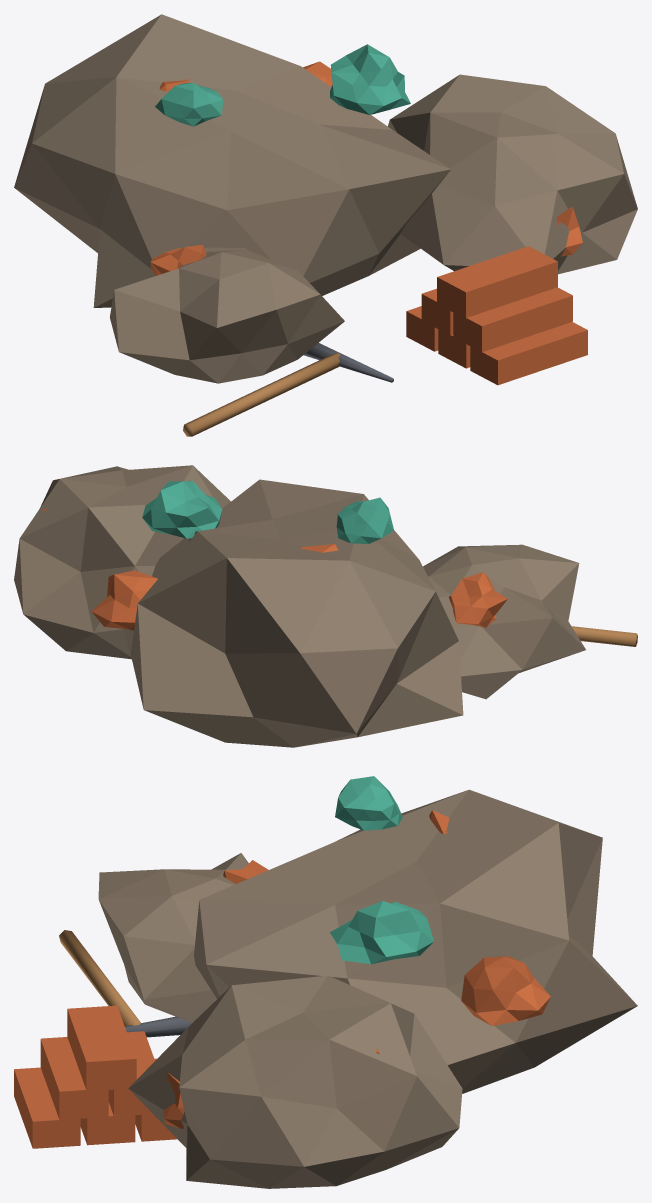
File: resource_copper.fbx
3 renders of one model, top to bottom at view 1: azimuth 30°, elevation 25°; view 2: azimuth 150°, elevation 25°; view 3: azimuth 270°, elevation 25°, orthographic. The views are drawn at different scales.
Parts seen in each view (by area): view 1: resource_copper_rock#8a7a68_00, resource_copper_copper_01, resource_copper_patina_02, resource_copper_wood#b08050_03, resource_copper_pickiron_04; view 2: resource_copper_rock#8a7a68_00, resource_copper_patina_02, resource_copper_copper_01, resource_copper_wood#b08050_03; view 3: resource_copper_rock#8a7a68_00, resource_copper_copper_01, resource_copper_patina_02, resource_copper_wood#b08050_03, resource_copper_pickiron_04.
Boxes of the visible parts, x1=… form: resource_copper_rock#8a7a68_00: x1=14, y1=14, x2=637, y2=383; resource_copper_copper_01: x1=150, y1=61, x2=587, y2=385; resource_copper_patina_02: x1=155, y1=44, x2=410, y2=126; resource_copper_wood#b08050_03: x1=183, y1=353, x2=340, y2=436; resource_copper_pickiron_04: x1=303, y1=343, x2=393, y2=382; resource_copper_rock#8a7a68_00: x1=14, y1=465, x2=585, y2=747; resource_copper_patina_02: x1=142, y1=481, x2=393, y2=543; resource_copper_copper_01: x1=42, y1=508, x2=507, y2=630; resource_copper_wood#b08050_03: x1=572, y1=626, x2=637, y2=646; resource_copper_rock#8a7a68_00: x1=98, y1=789, x2=637, y2=1188; resource_copper_copper_01: x1=14, y1=810, x2=550, y2=1148; resource_copper_patina_02: x1=330, y1=776, x2=433, y2=964; resource_copper_wood#b08050_03: x1=59, y1=930, x2=140, y2=1026; resource_copper_pickiron_04: x1=125, y1=1016, x2=191, y2=1037.
Bounding box in the file's own units: 101 × 39.07 × 93.2.
